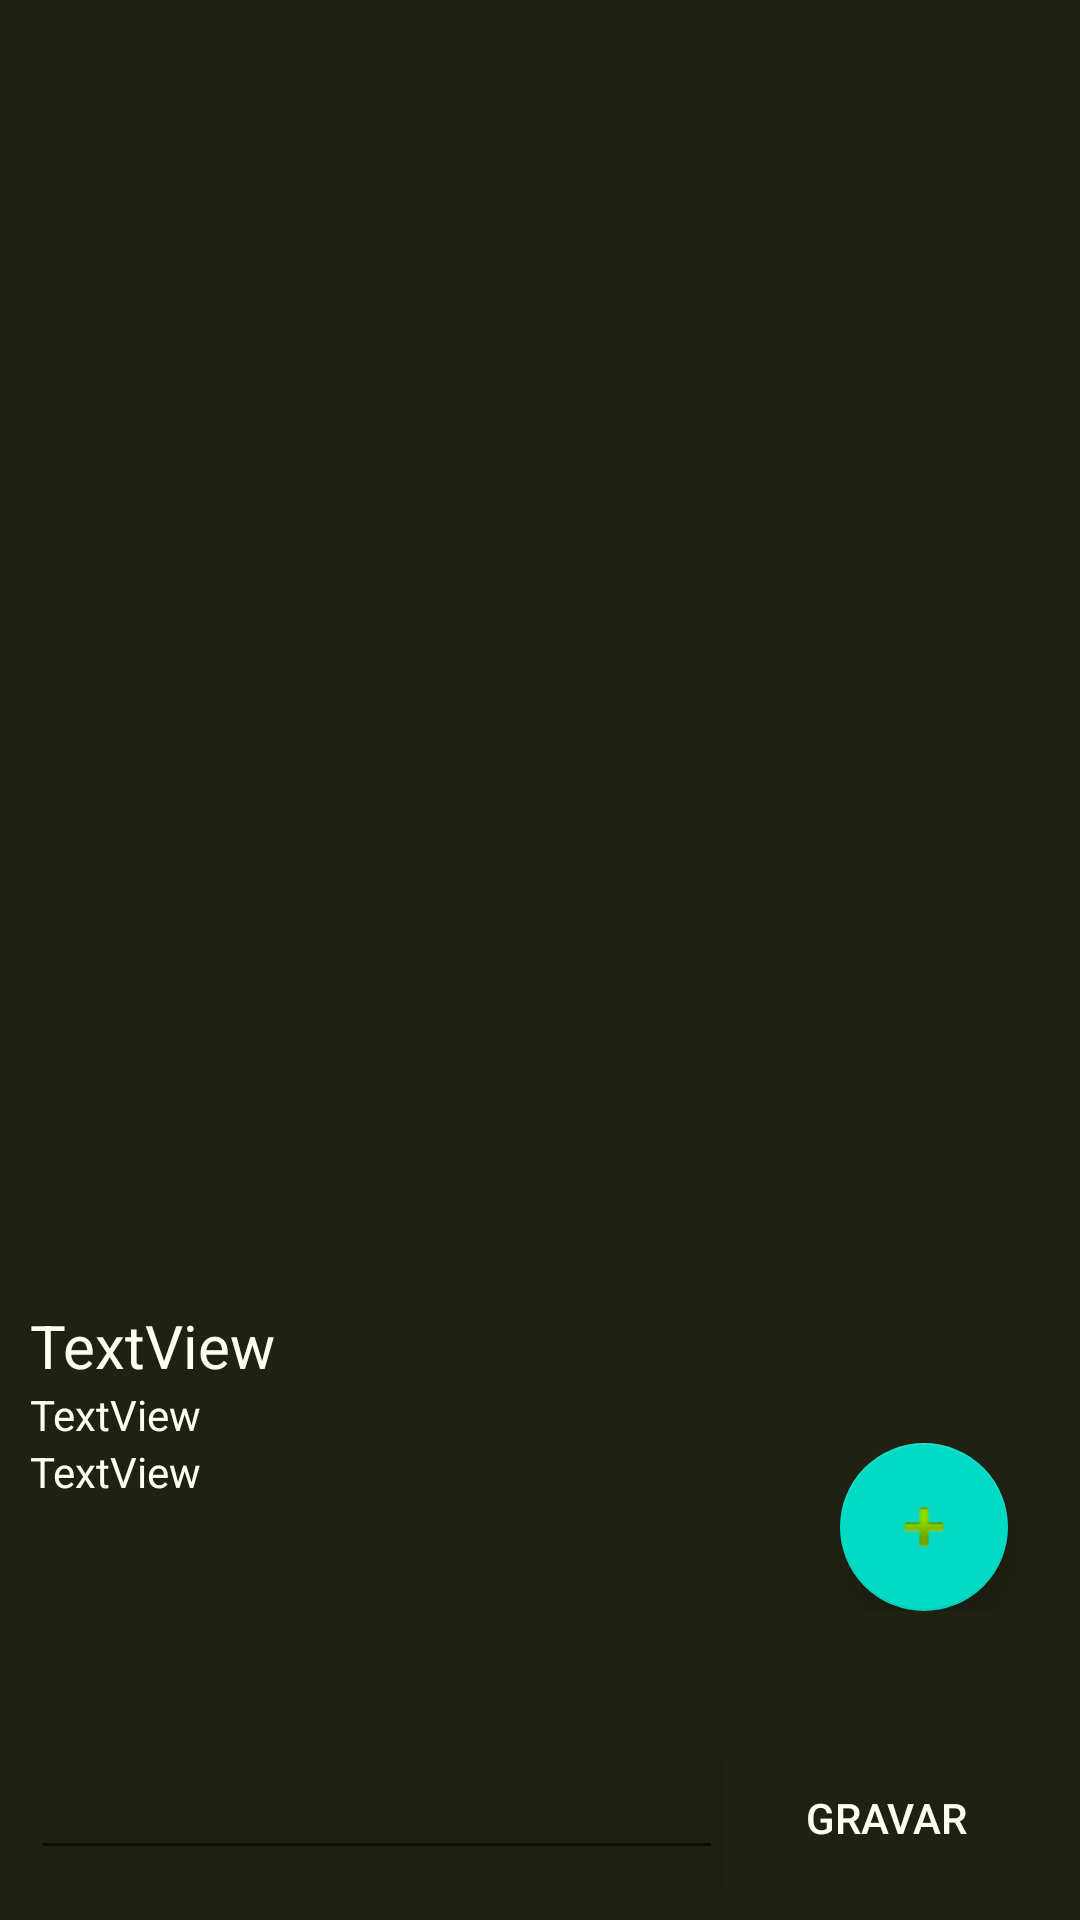

Locate icon controls on the screen. Image size 1080×1920, boxes as [x1,y1,x2,y2].
add: [840,1443,1008,1611]
